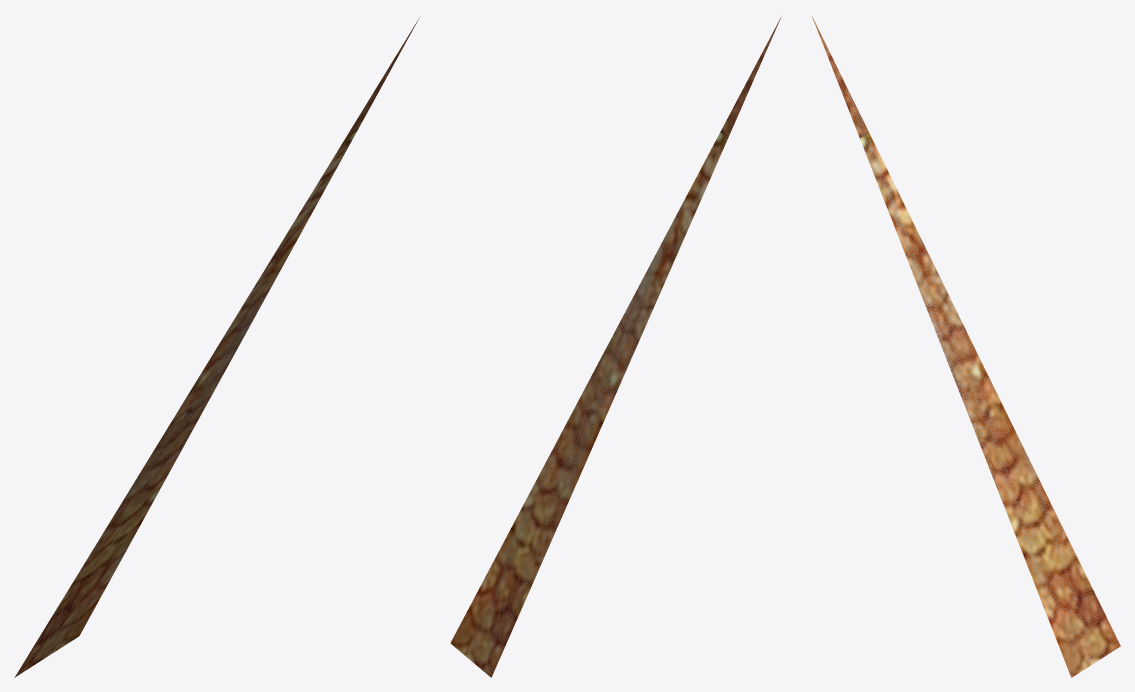
File: 西庸城堡609.dae
3 views of the same model, side by side, from view 1: azimuth 90°, elevation 25°; view 2: azimuth 150°, elevation 25°; view 3: azimuth 270°, elevation 25° (orthographic). The views are drawn at different scales.
Visible parts, largest first — view 1: SketchUp; view 2: SketchUp; view 3: SketchUp.
Boxes of the visible parts, <box> form: SketchUp: <box>14,17,419,677</box>; SketchUp: <box>450,17,780,677</box>; SketchUp: <box>812,16,1120,677</box>.
Bounding box in the file's own units: 42.45 × 58.33 × 118.
